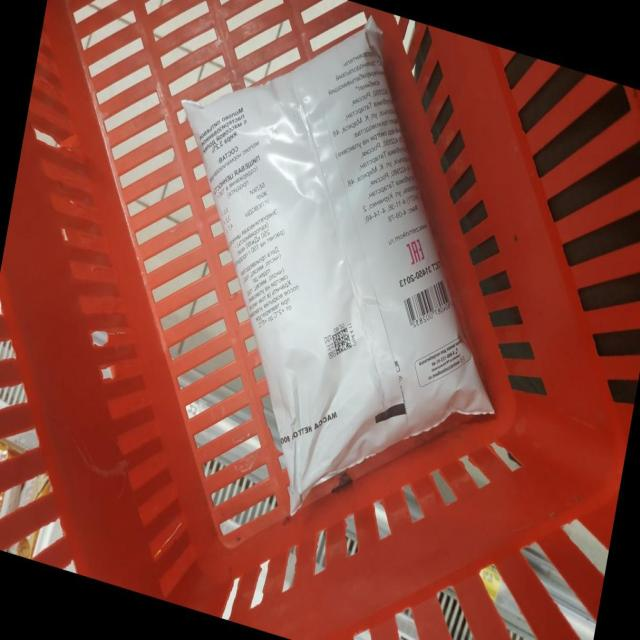milk: (137, 251, 500, 640)
